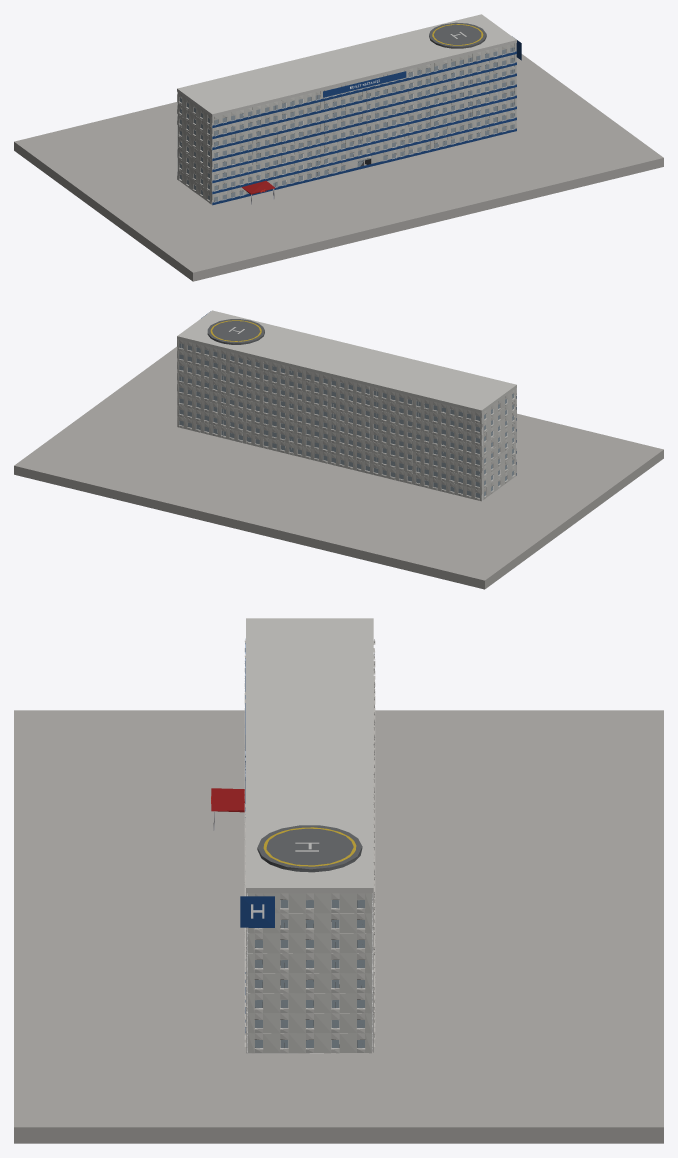
Rendered from simge_hastane.glb.
3 views of the same model, one above another, from view 1: azimuth 30°, elevation 25°; view 2: azimuth 150°, elevation 25°; view 3: azimuth 270°, elevation 25° (orthographic). The views are drawn at different scales.
Visible parts, largest first — view 1: Simge_Hastane.001; view 2: Simge_Hastane.001; view 3: Simge_Hastane.001.
Part boxes in pixels (x1,y1,x2,y2): Simge_Hastane.001: (14, 14, 663, 281); Simge_Hastane.001: (14, 310, 663, 589); Simge_Hastane.001: (14, 618, 663, 1143).
Size of the model in its own units: 170 by 35.44 by 112.
